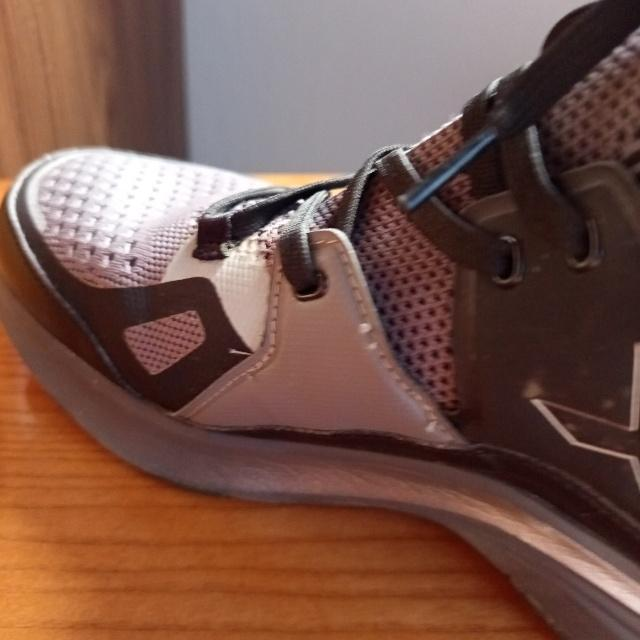broken-error: (354, 319, 382, 354)
